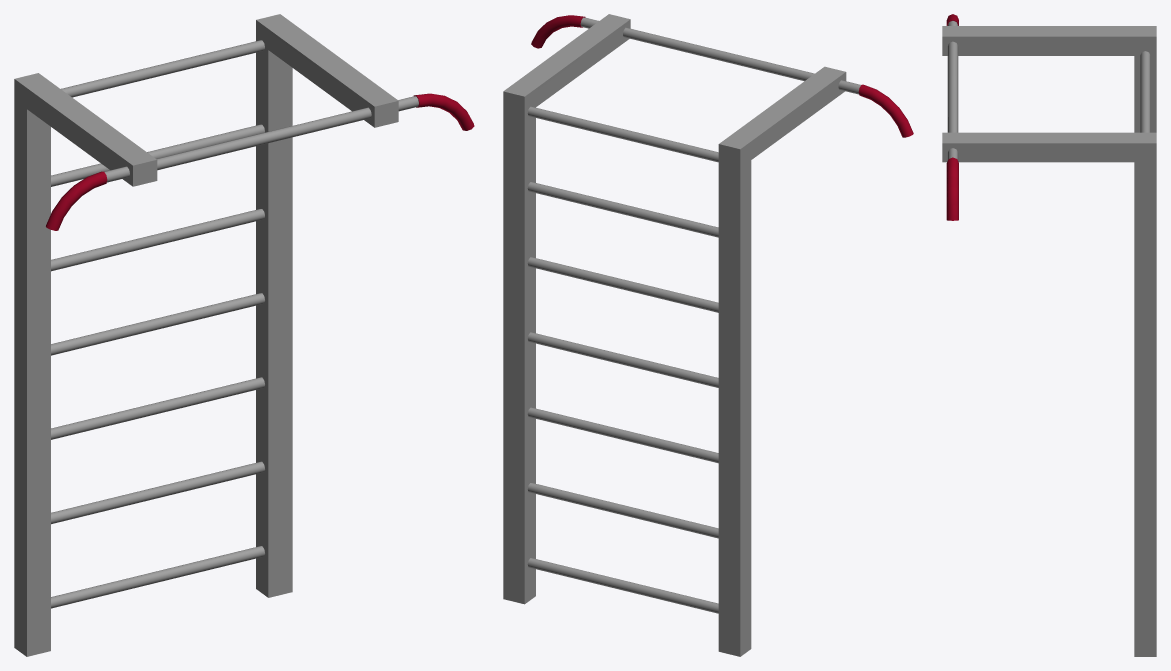
The model's file is pullup-rig.glb.
3 renders of one model, left to right at view 1: azimuth 30°, elevation 25°; view 2: azimuth 150°, elevation 25°; view 3: azimuth 270°, elevation 25°, orthographic. The views are drawn at different scales.
Parts seen in each view (by area): view 1: pull_up_rack_gym_environment_0; view 2: pull_up_rack_gym_environment_0; view 3: pull_up_rack_gym_environment_0.
Boxes of the visible parts, x1,y1,x2,y2 form: pull_up_rack_gym_environment_0: (14, 14, 474, 656); pull_up_rack_gym_environment_0: (503, 14, 913, 656); pull_up_rack_gym_environment_0: (942, 14, 1156, 656).
Size of the model in its own units: 1.96 by 2.5 by 0.9443.
1 material, 1 textured.
